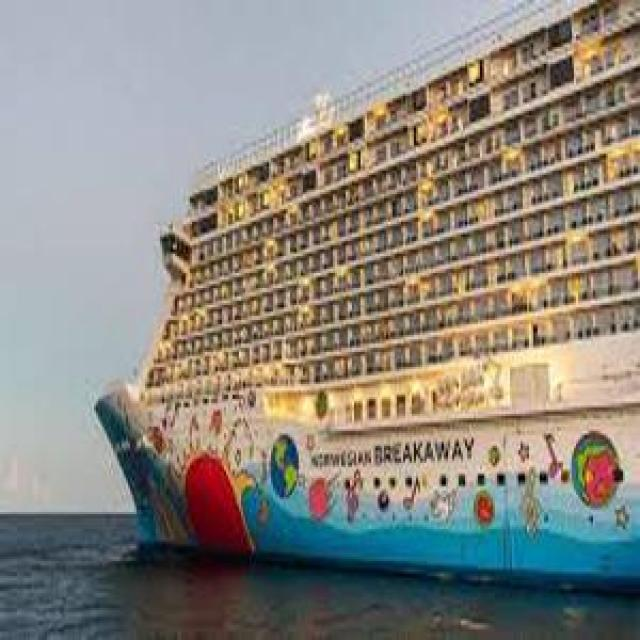passenger ship: (92, 29, 640, 588)
